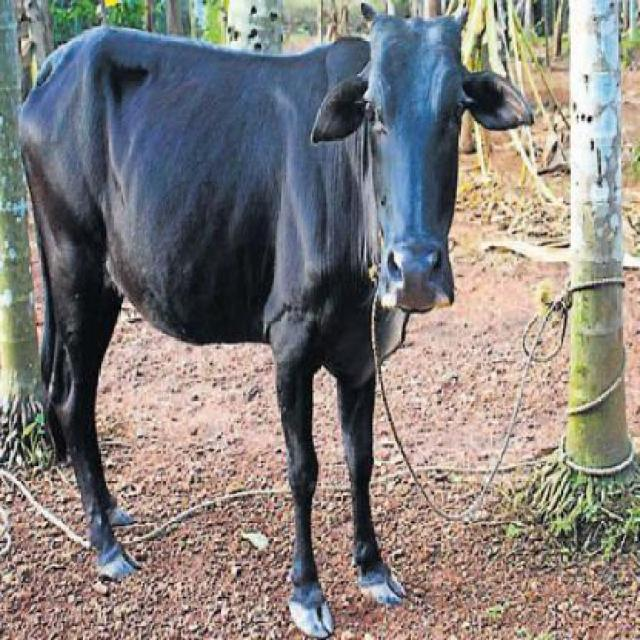Cow: (1, 0, 532, 638)
